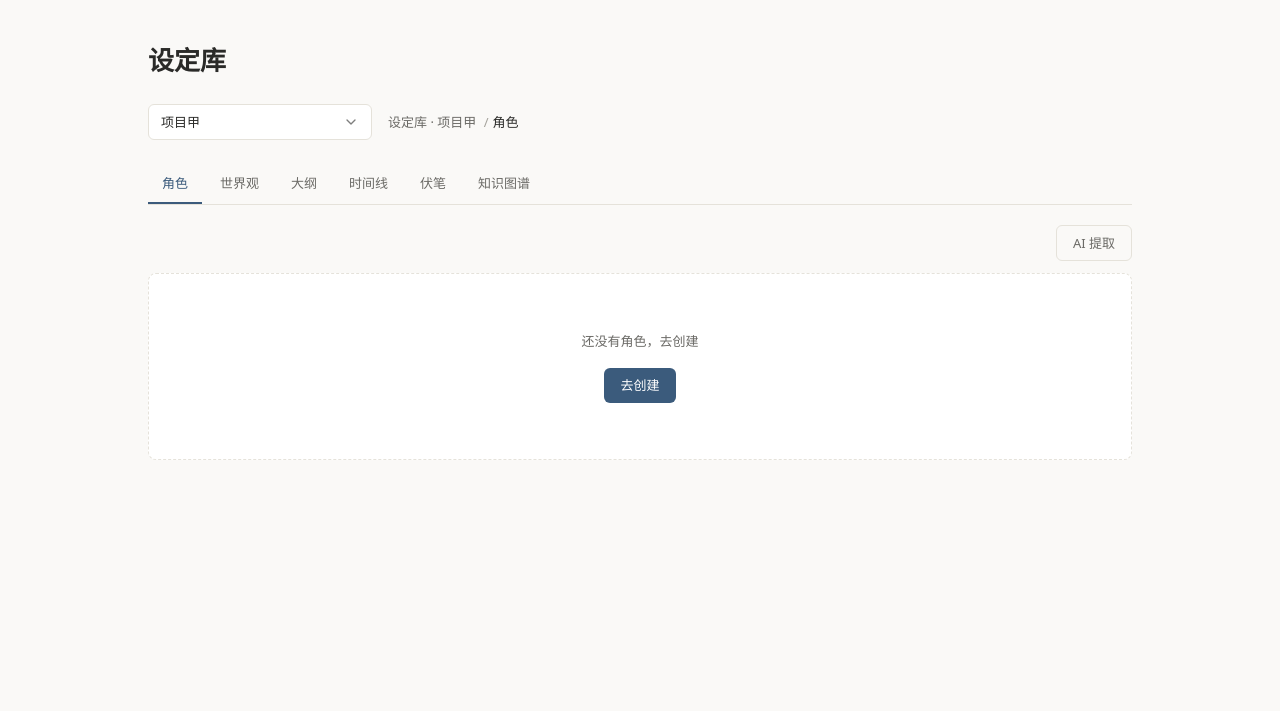
Test: #1325 知识图谱关系列表分页 › 6 分页条与列表同容器：不因视图切换残留（切回图谱视图后消失）
This screenshot has width=1280, height=711.
Click the tab "知识图谱".
click(504, 184)  # box top-left (464, 164), bottom-right (544, 204)
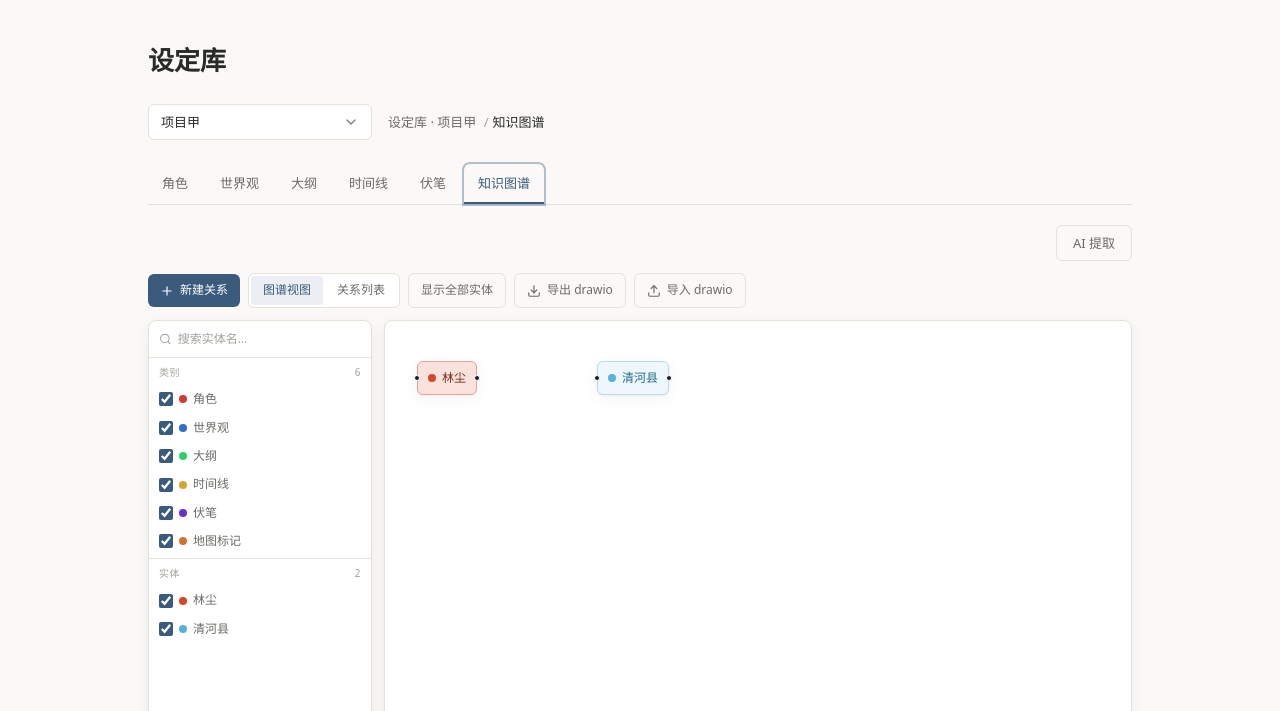
Click the button with test id "library-kg-view-list".
click(361, 291)  # box top-left (325, 276), bottom-right (397, 305)
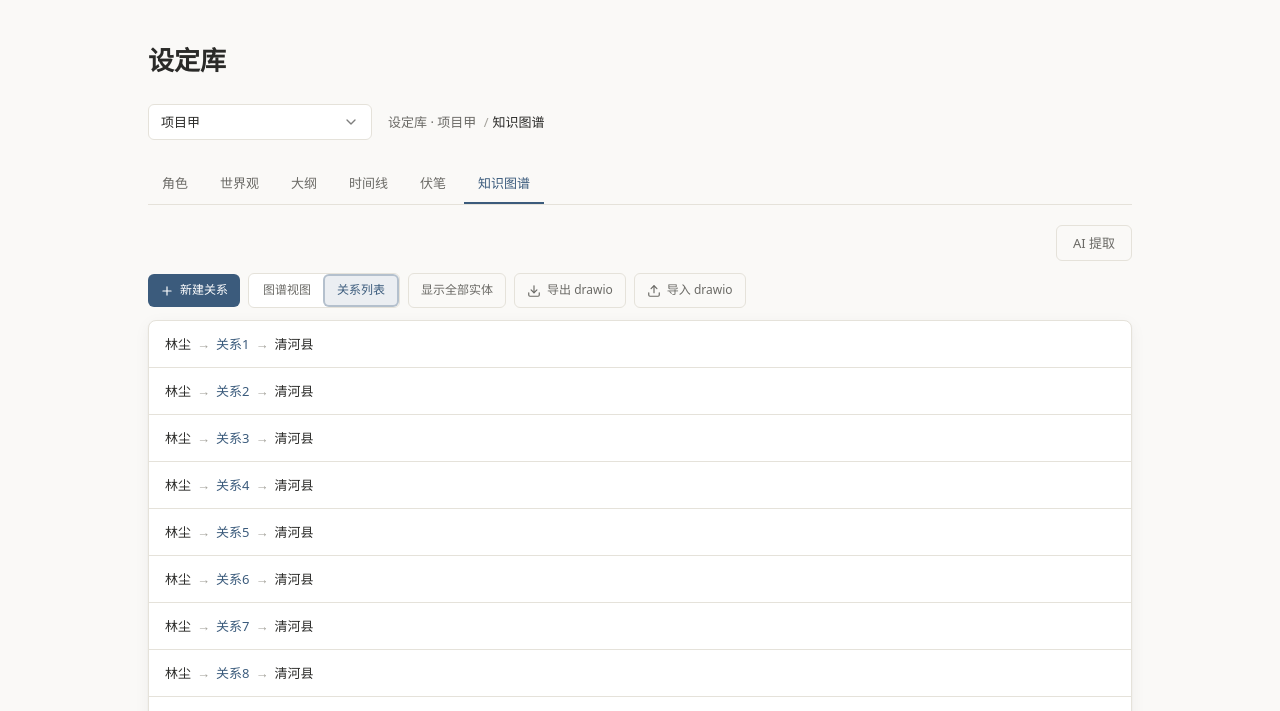
Now the element with test id "library-kg-relation-list" shows "关系1", box top-left (216, 335), bottom-right (249, 353)
Click the button with test id "library-kg-view-graph".
click(287, 291)  # box top-left (251, 276), bottom-right (323, 305)
(page scrolled)
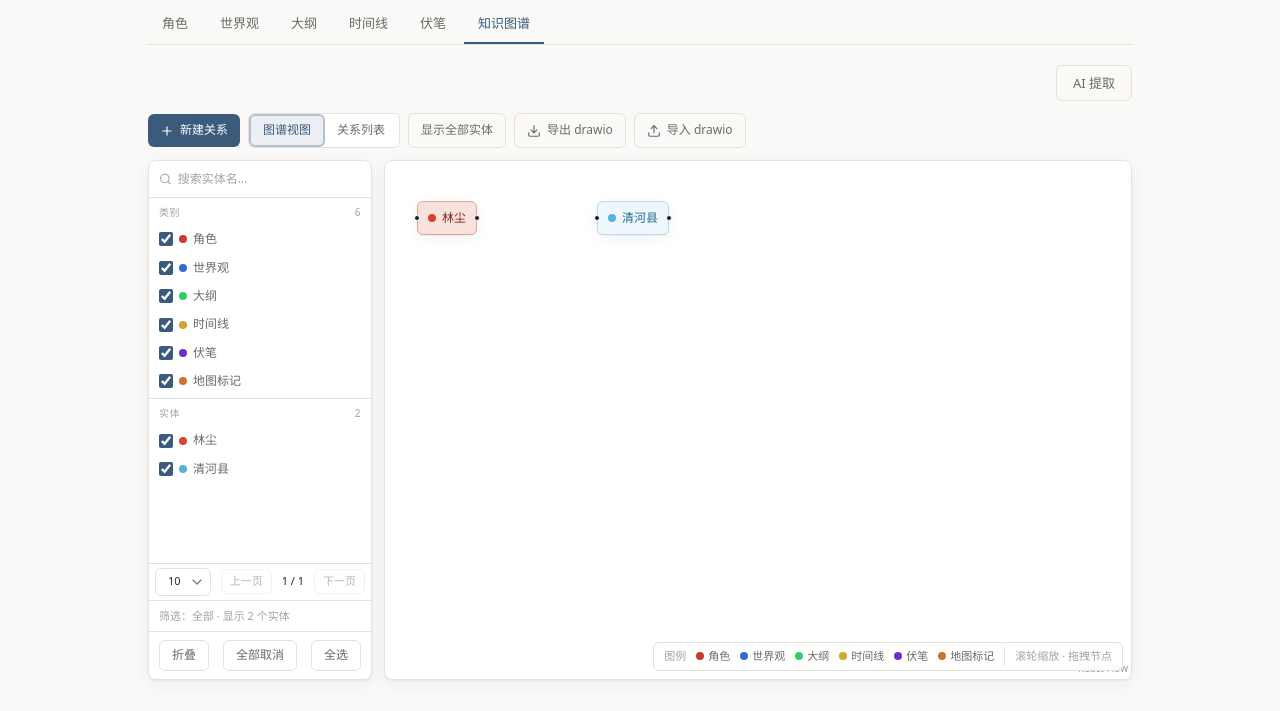
Now the element with test id "library-kg-canvas" is shown, box top-left (384, 160), bottom-right (1132, 680)
